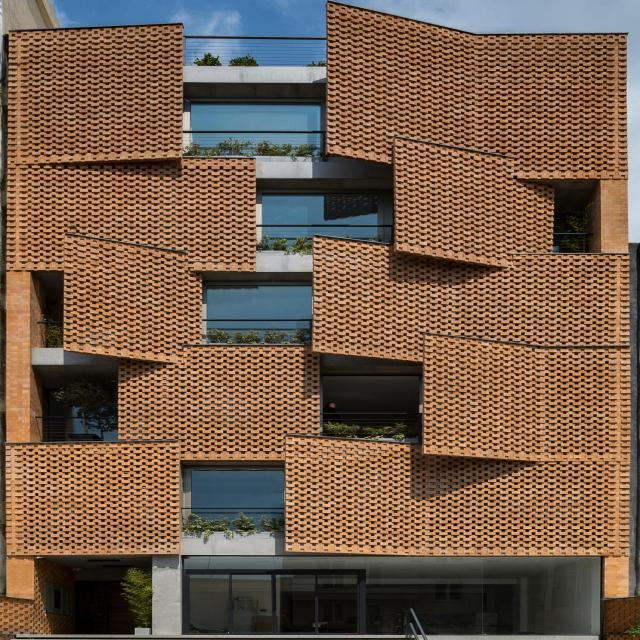door: (182, 570, 370, 638)
railing: (186, 38, 327, 66), (187, 130, 326, 151)
window: (182, 554, 606, 637), (187, 101, 322, 154), (258, 191, 387, 244), (206, 282, 311, 342), (327, 371, 420, 438), (188, 466, 285, 529), (42, 375, 119, 440)
